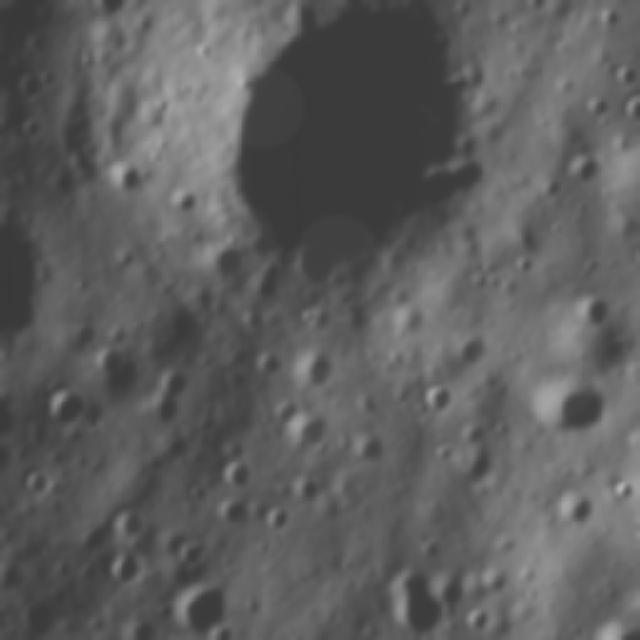crater: (199, 2, 486, 309), (0, 216, 43, 352), (388, 566, 458, 640), (533, 378, 609, 444), (172, 584, 243, 640), (277, 411, 331, 464), (44, 384, 98, 433), (558, 143, 608, 194), (290, 346, 338, 397), (552, 485, 602, 533), (139, 393, 187, 432), (572, 288, 614, 332), (208, 246, 248, 288), (422, 383, 463, 423), (63, 318, 102, 360), (105, 550, 148, 588), (452, 336, 496, 372), (105, 161, 147, 197), (108, 506, 148, 543), (210, 500, 250, 537), (354, 430, 392, 465), (250, 344, 284, 382), (22, 466, 58, 500), (155, 366, 194, 397), (91, 346, 126, 380), (467, 604, 501, 638), (218, 462, 255, 492), (260, 507, 295, 536), (609, 60, 640, 91), (612, 474, 640, 508), (0, 398, 20, 442), (0, 445, 20, 480), (623, 90, 640, 130)
